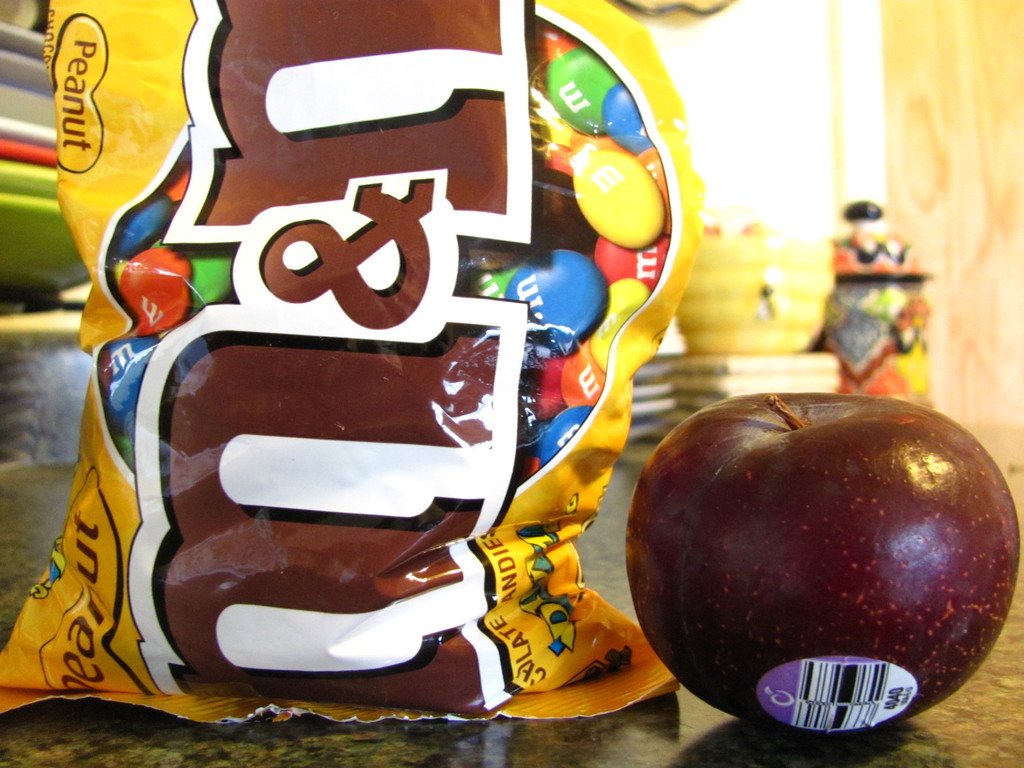Apple: (632, 388, 1006, 734)
